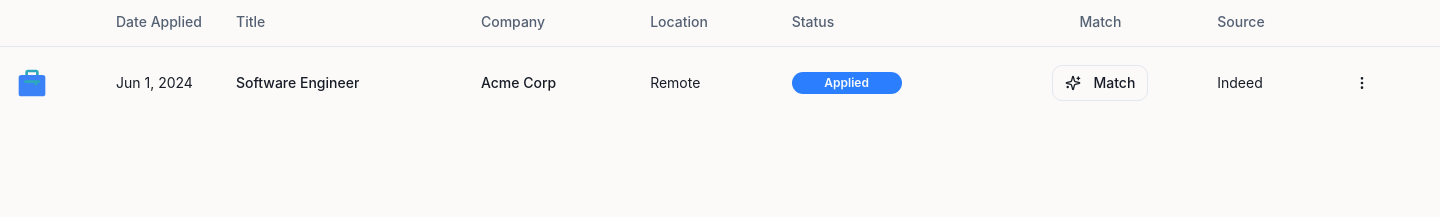
Test case: MyJobsTable › status badge menu › opens a status menu when the badge is clicked
The image size is (1440, 217).
Click the button with aria-label "Change status, currently Applied": [847, 82] box [792,72,902,94]
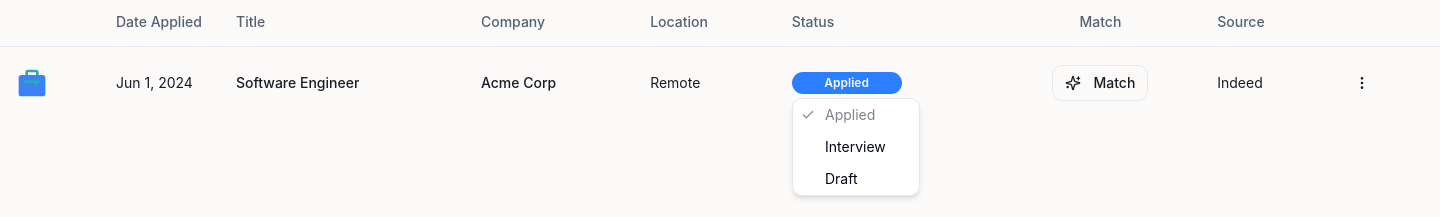
Expected: the text "Interview" is shown, [825,137,886,157]
